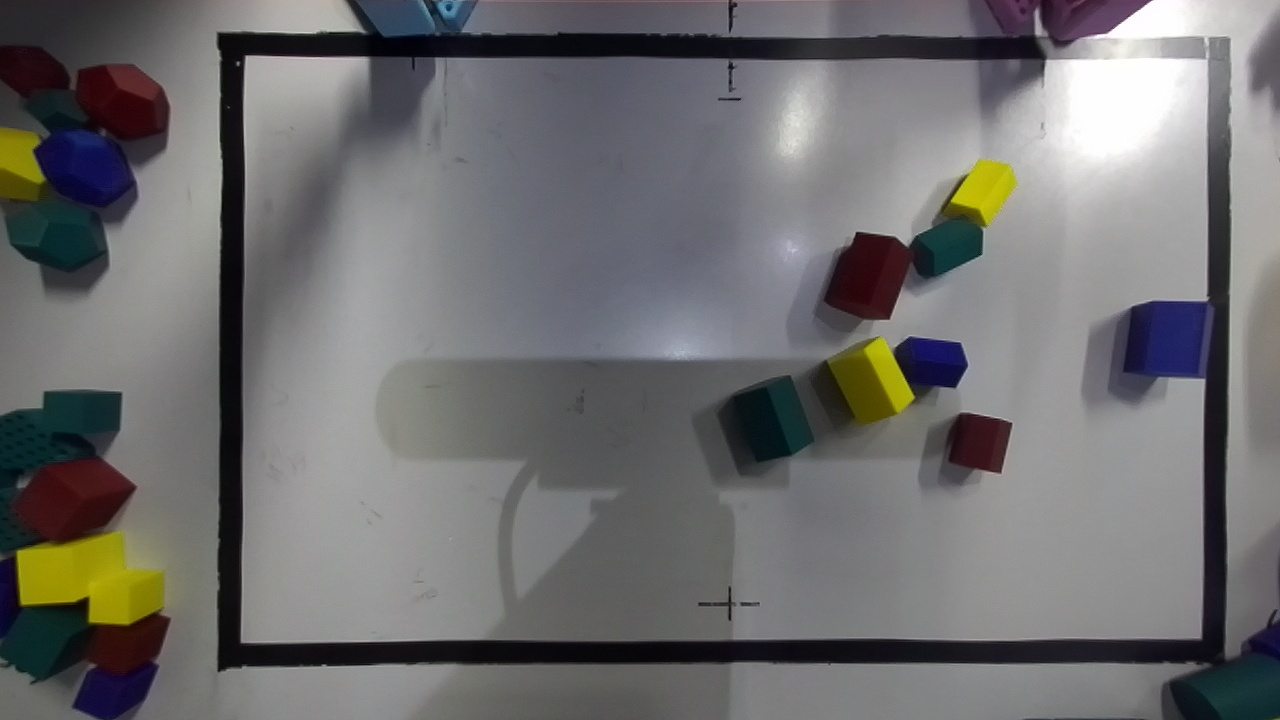hexagonal: (823, 232, 912, 319), (827, 337, 913, 423), (1123, 300, 1213, 378), (732, 375, 813, 461), (941, 159, 1016, 226), (910, 218, 983, 277), (948, 413, 1011, 472), (893, 337, 967, 387)
